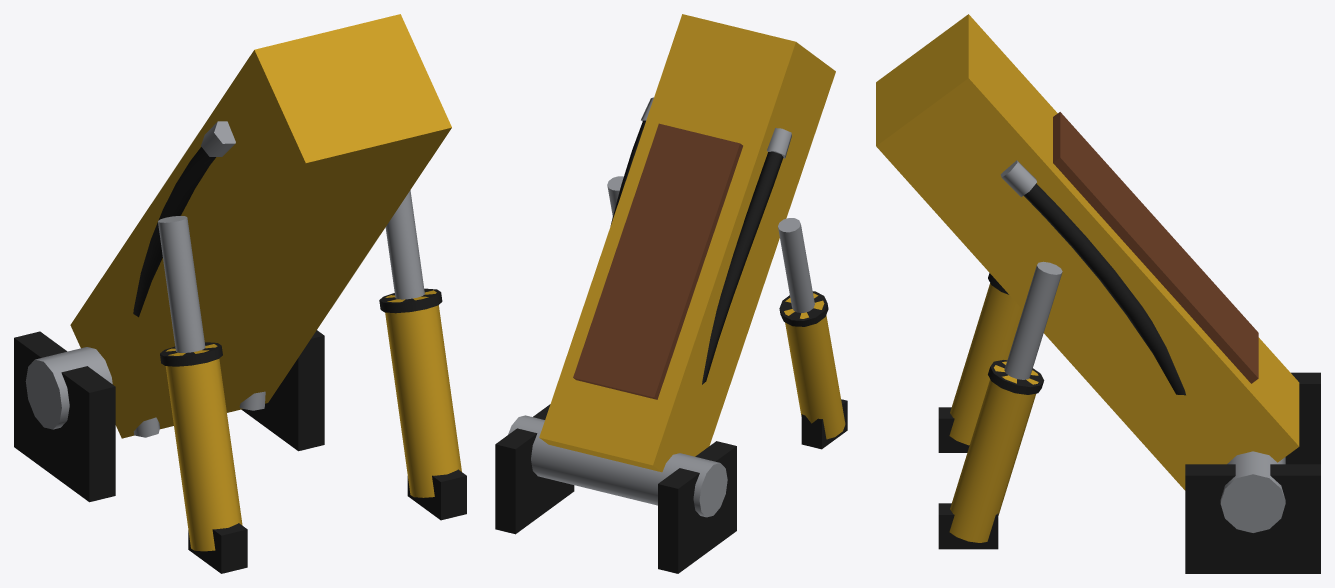
The model's file is mk1_boom.obj.
3 renders of one model, left to right at view 1: azimuth 30°, elevation 25°; view 2: azimuth 150°, elevation 25°; view 3: azimuth 270°, elevation 25°, orthographic. The views are drawn at different scales.
Parts seen in each view (by area): view 1: mk1_boom; view 2: mk1_boom; view 3: mk1_boom.
Part boxes in pixels (x1,y1,x2,y2): mk1_boom: [14, 14, 466, 573]; mk1_boom: [495, 14, 847, 573]; mk1_boom: [876, 14, 1320, 573].
Bounding box in the file's own units: 1.05 × 1.94 × 1.64.
